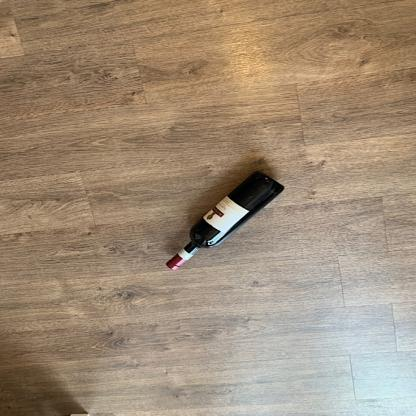trash: (163, 169, 286, 273)
